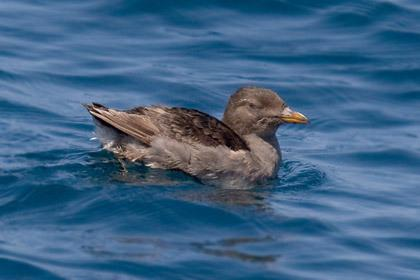008.Rhinoceros_Auklet: (80, 84, 311, 185)
